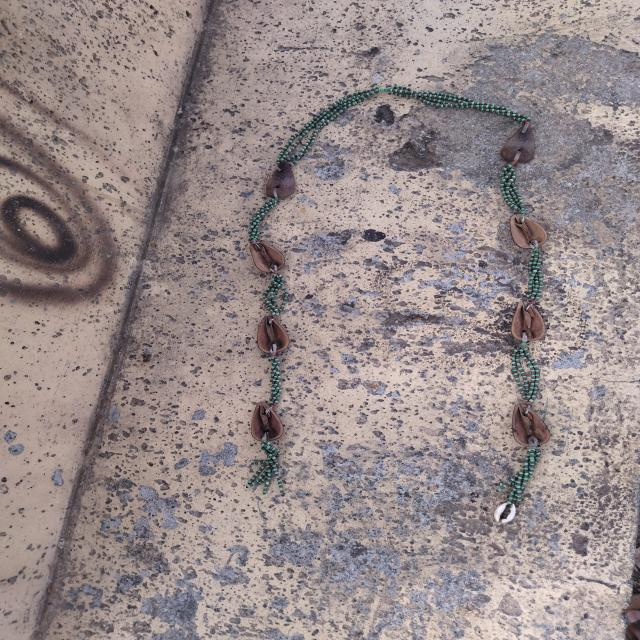facedown: (492, 114, 549, 170), (258, 159, 305, 205)
faceup: (501, 396, 563, 459), (237, 396, 299, 449), (241, 310, 305, 360), (235, 234, 302, 280), (502, 296, 558, 350), (496, 210, 558, 258)
